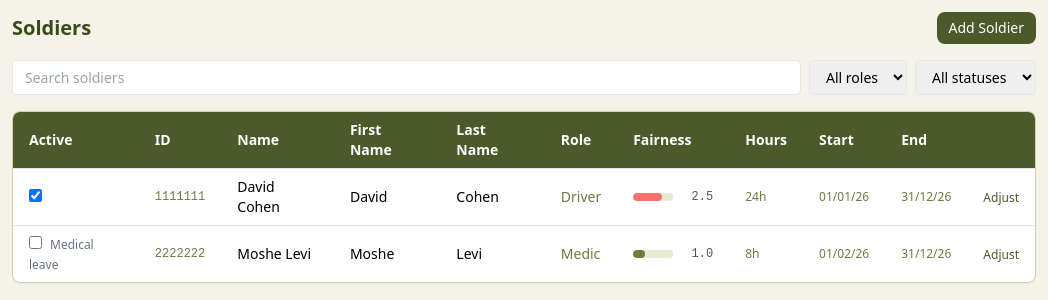
SoldiersPage › filters soldiers by status Active
This screenshot has width=1048, height=300.
Select "Active" in the dropdown named "filter by status". click: (976, 78)
box: [915,60,1036,95]
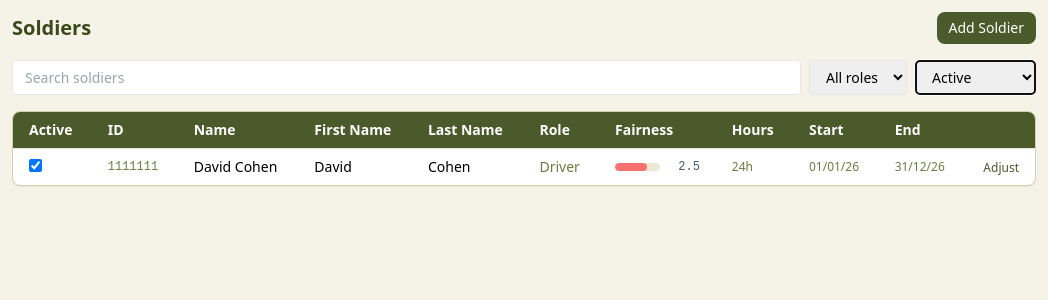
Expected: the text "David" is shown, [298,148,412,185]
Expected: the text "Moshe" is gone
